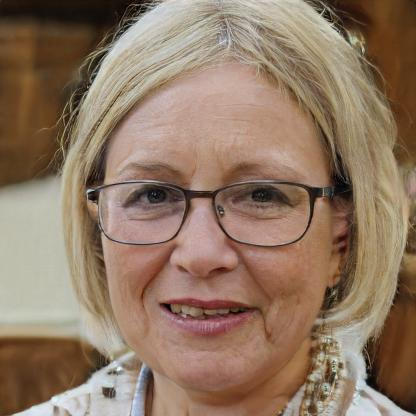glasses: (82, 176, 336, 255)
